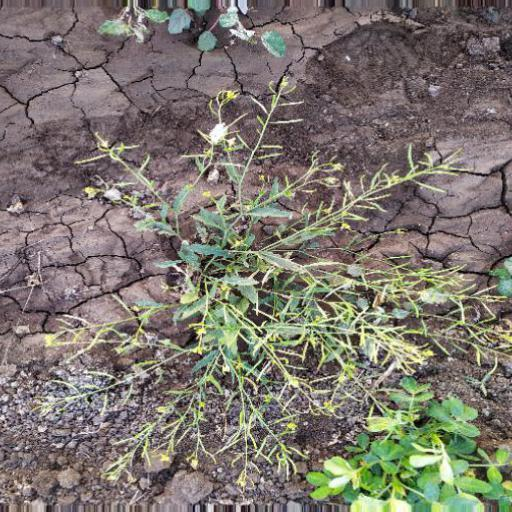weed: (61, 76, 512, 479)
